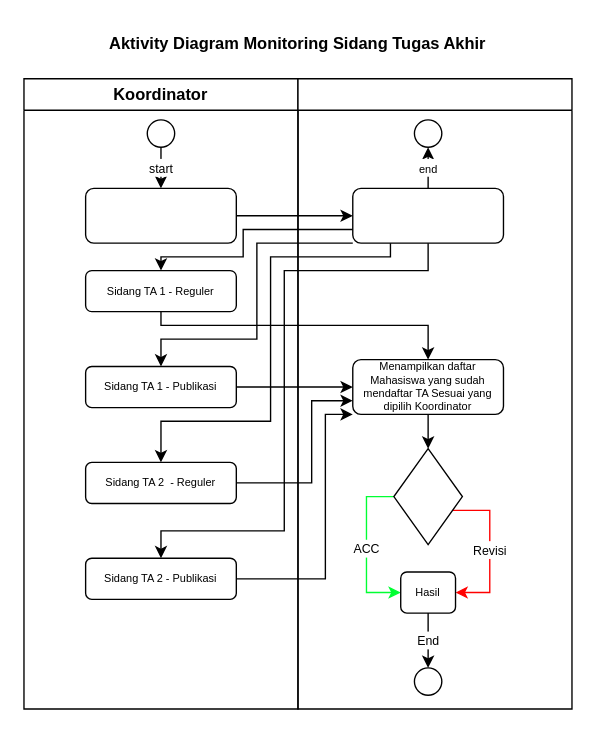
Image size: 596x733. Some labels were removed from this diagram. Here are the shapes that lost their labels. From the top down, the box of each, then its label:
(84, 187, 236, 243): Membuka Fitur Monitoring Sidang Pada SIdebar
(351, 187, 503, 243): Menampilkan Halaman Monitoring Sidang
(297, 77, 572, 709): Sistem
(393, 447, 462, 545): Validasi Sidang
